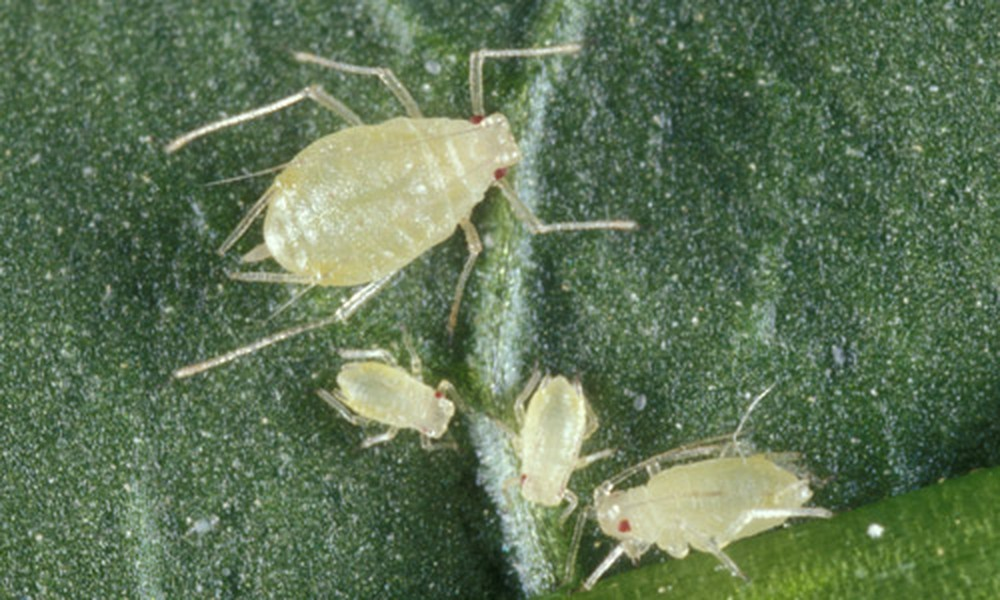Pulgon: (168, 31, 649, 343), (578, 432, 840, 579), (303, 320, 488, 467), (486, 346, 609, 530)
